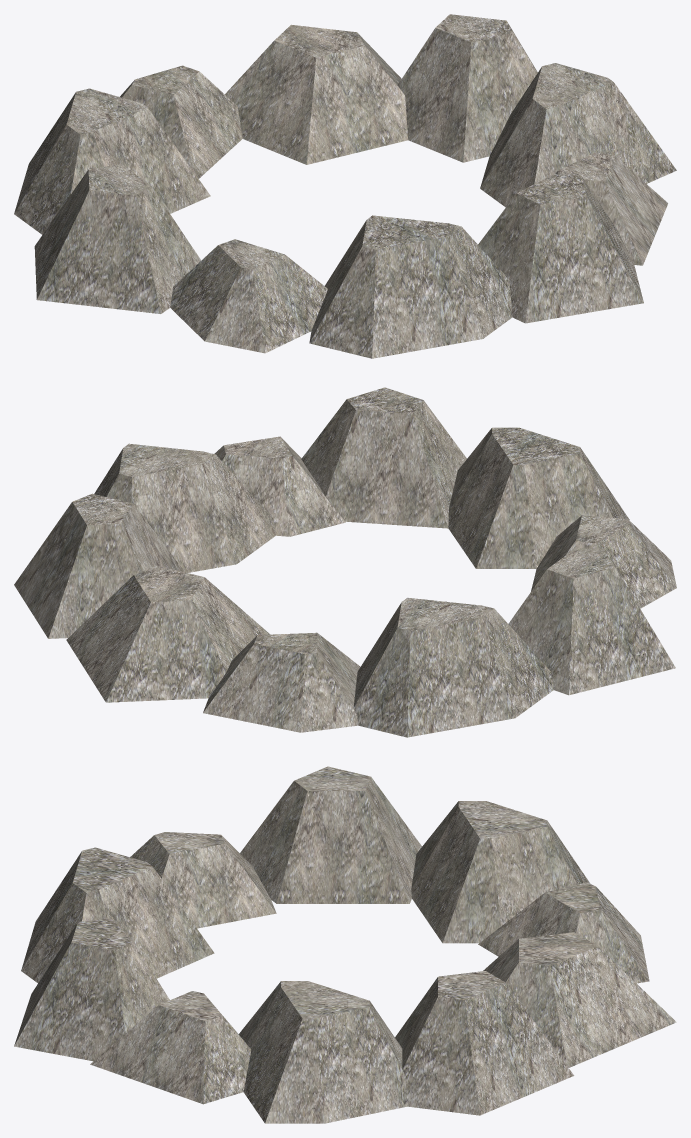
File: campfire_stones.obj
3 views of the same model, one above another, from view 1: azimuth 30°, elevation 25°; view 2: azimuth 150°, elevation 25°; view 3: azimuth 270°, elevation 25° (orthographic). The views are drawn at different scales.
Visible parts, largest first — view 1: campfire_stones_ID5; view 2: campfire_stones_ID5; view 3: campfire_stones_ID5.
Part boxes in pixels (x1=…): campfire_stones_ID5: x1=14, y1=14, x2=676, y2=358; campfire_stones_ID5: x1=14, y1=387, x2=676, y2=737; campfire_stones_ID5: x1=14, y1=766, x2=676, y2=1123.
Bounding box in the file's own units: 0.5408 × 0.0778 × 0.5155.
1 material, 1 textured.
